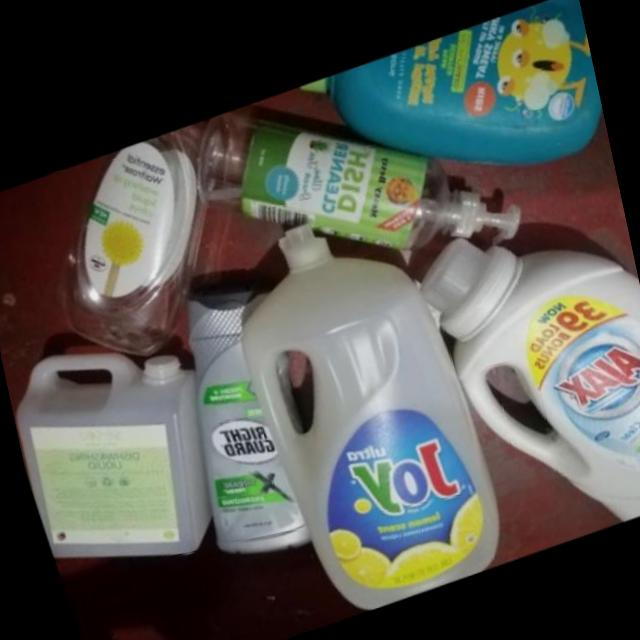chai_nhua: (236, 220, 497, 607), (414, 233, 640, 518), (292, 0, 600, 162), (191, 110, 515, 248), (12, 350, 208, 557), (181, 282, 308, 552), (61, 117, 204, 355)
